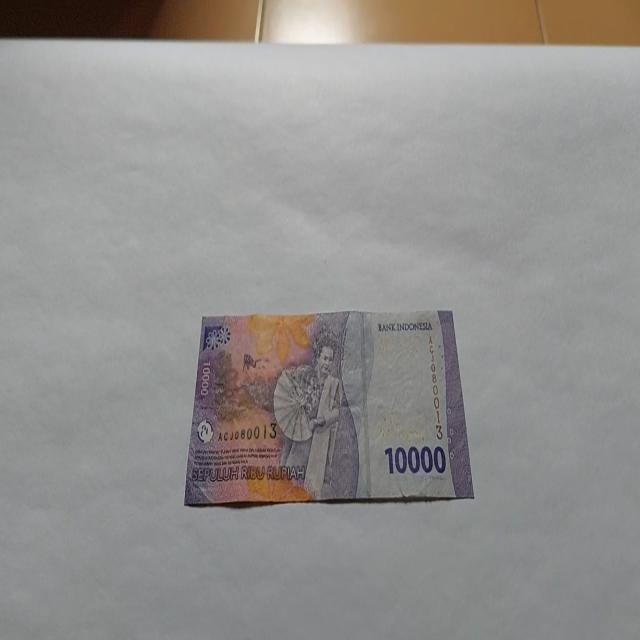sepuluh ribu rupiah: (183, 307, 474, 508)
